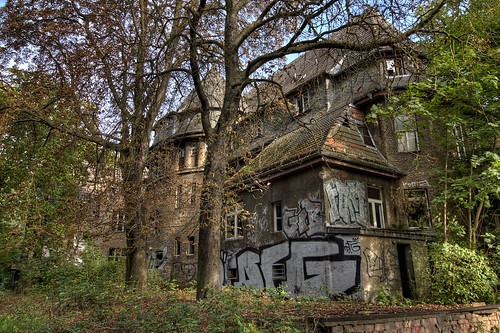building: (135, 11, 450, 287)
graffiti: (225, 239, 369, 303), (286, 178, 368, 237)
tree: (170, 1, 383, 289), (49, 1, 175, 272), (412, 1, 500, 303), (1, 77, 89, 278)
